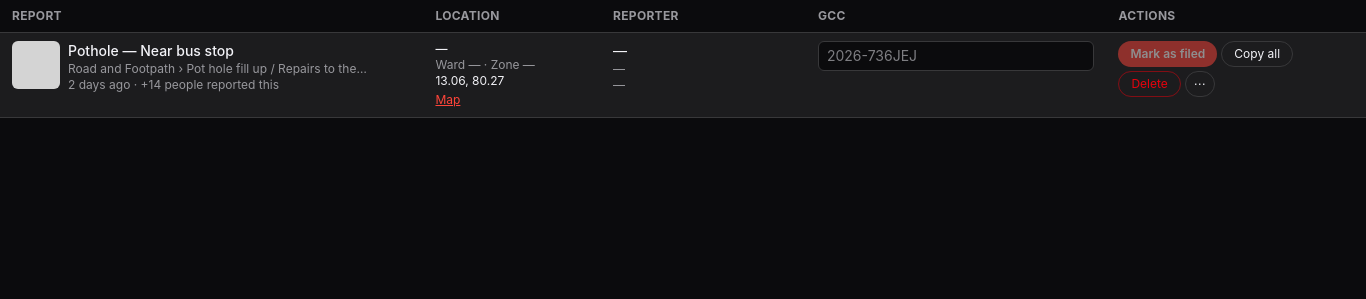
Test case: GccTable › expands a details row with photos, single-field copies and the note
The image size is (1366, 299).
Check: the field labelled "Note (optional)" is not shown
Click the button "⋯". click: click(1200, 84)
box: [1185,71,1215,97]
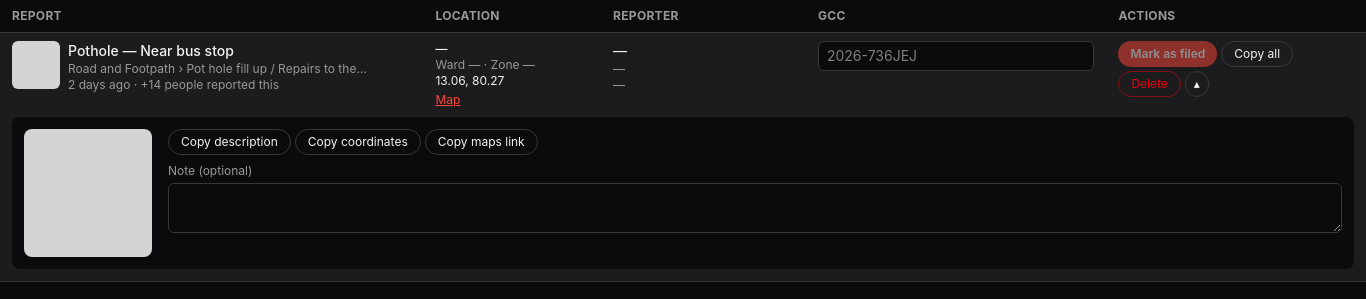
Check: the text box labelled "Note (optional)" is shown, box [168,183,1342,233]
Check: the button "Copy coordinates" is shown, box [295,129,421,155]
